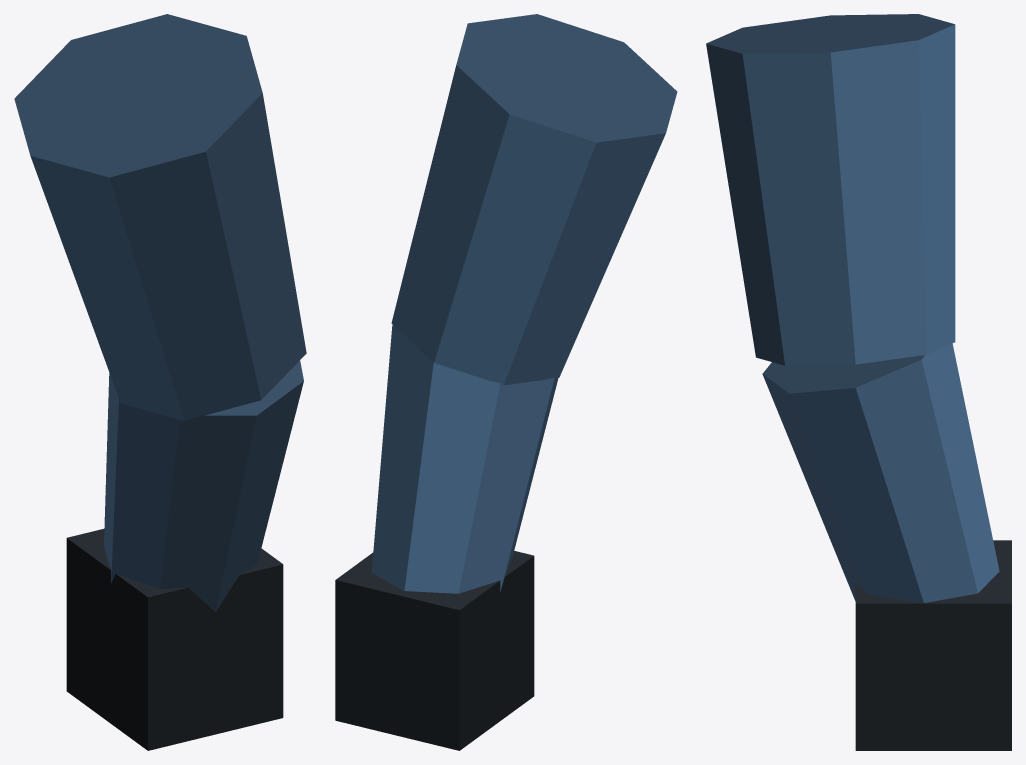
File: counter_terrorist_right_arm.obj
3 renders of one model, left to right at view 1: azimuth 30°, elevation 25°; view 2: azimuth 150°, elevation 25°; view 3: azimuth 270°, elevation 25°, orthographic. The views are drawn at different scales.
Visible parts, largest first — view 1: counter_terrorist_right_arm; view 2: counter_terrorist_right_arm; view 3: counter_terrorist_right_arm.
Boxes of the visible parts, x1,y1,x2,y2 form: counter_terrorist_right_arm: [14, 14, 306, 750]; counter_terrorist_right_arm: [335, 14, 677, 750]; counter_terrorist_right_arm: [706, 14, 1011, 750].
Size of the model in its own units: 9.83 by 23.83 by 9.79.
1 material, 1 textured.
